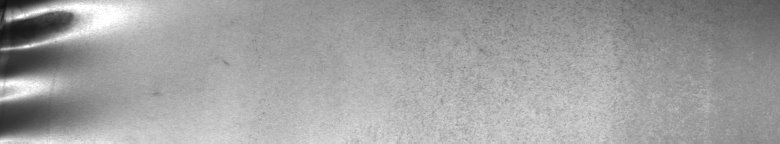ke: (4, 4, 80, 136)
